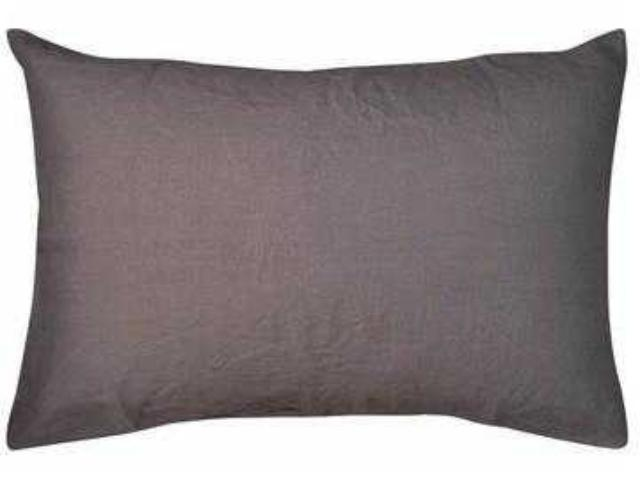pillow: (4, 23, 628, 451)
